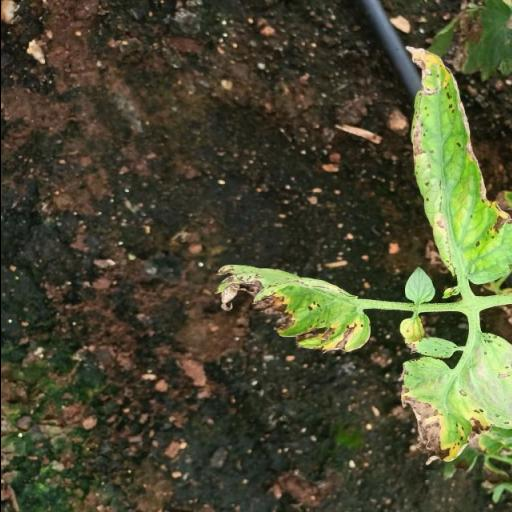disease_tomato: (407, 40, 512, 281), (393, 326, 512, 474), (208, 258, 376, 360)
